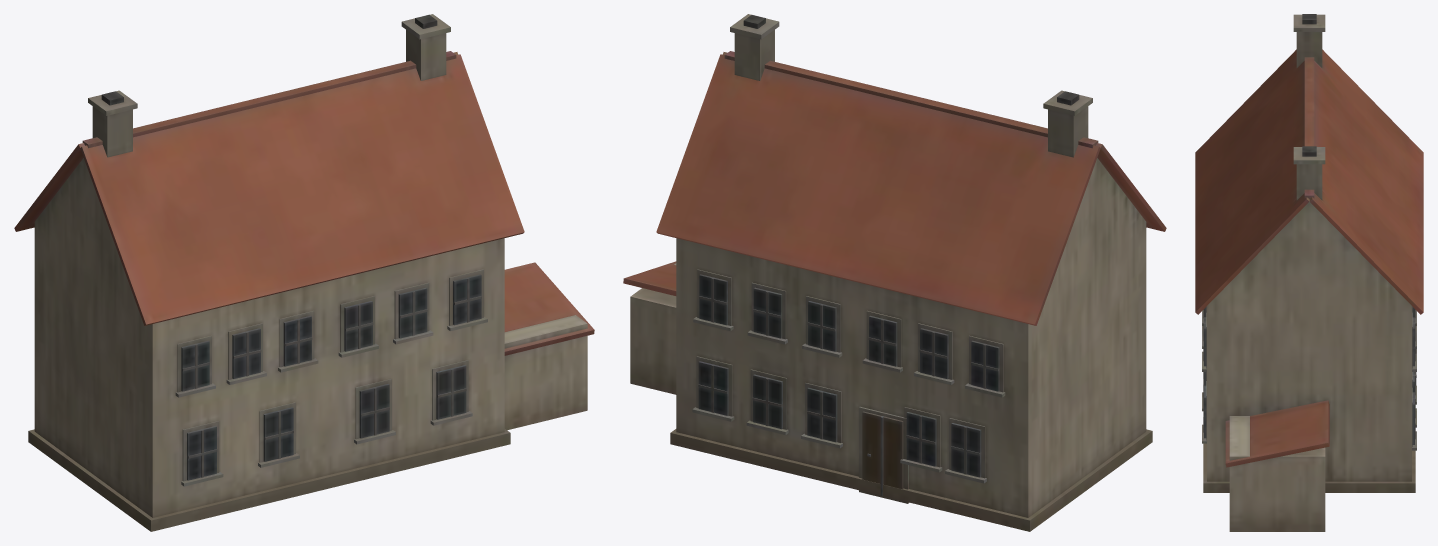
The model's file is house_normandy_l_baked.glb.
The picture shows the model from 3 angles, left to right: view 1: azimuth 30°, elevation 25°; view 2: azimuth 150°, elevation 25°; view 3: azimuth 270°, elevation 25°; orthographic projection. The views are drawn at different scales.
Parts seen in each view (by area): view 1: house_normandy_l; view 2: house_normandy_l; view 3: house_normandy_l.
Boxes of the visible parts, x1,y1,x2,y2 form: house_normandy_l: (14, 14, 594, 531); house_normandy_l: (623, 14, 1166, 531); house_normandy_l: (1195, 14, 1423, 531).
Bounding box in the file's own units: 14.57 × 11.61 × 7.14.
1 material, 1 textured.
